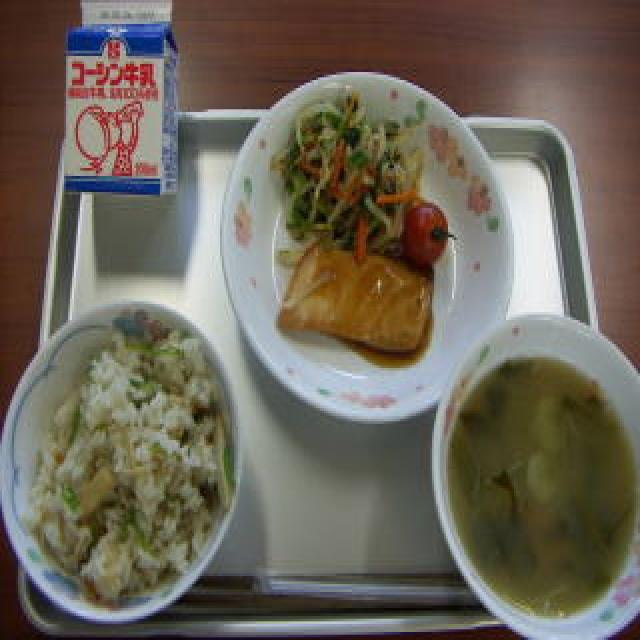熟制海鲜: (472, 389, 640, 616)
